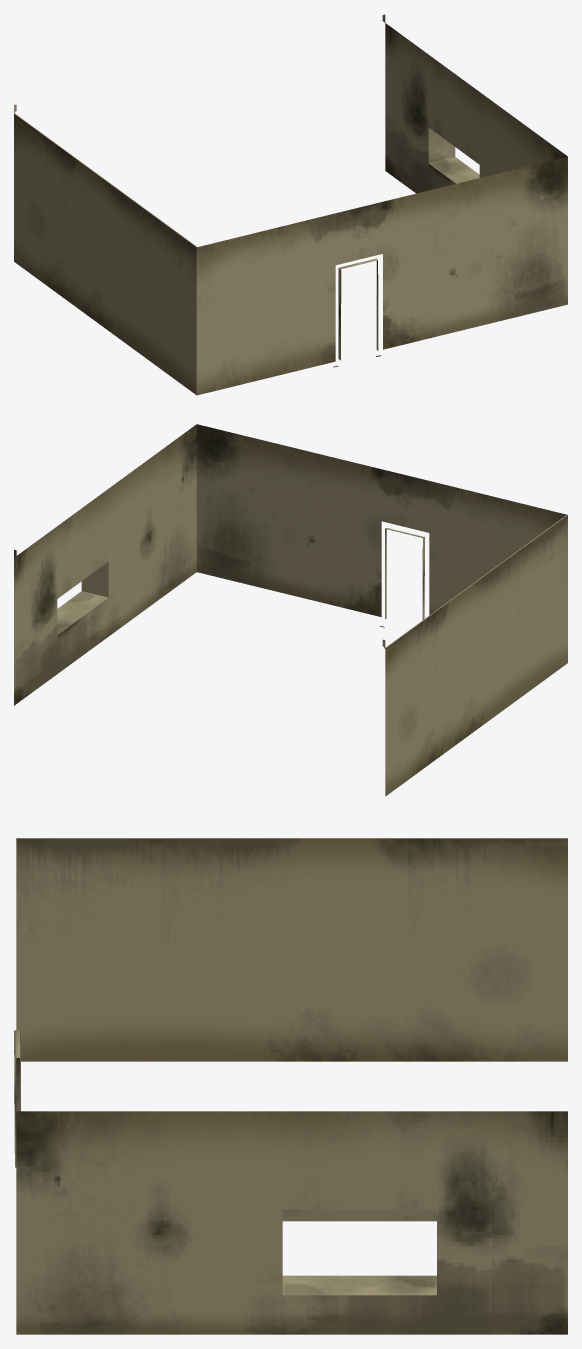
The model's file is Walls_Main_Adjusted_01.fbx.
3 views of the same model, one above another, from view 1: azimuth 30°, elevation 25°; view 2: azimuth 150°, elevation 25°; view 3: azimuth 270°, elevation 25° (orthographic). The views are drawn at different scales.
Visible parts, largest first — view 1: Walls_Main_01; view 2: Walls_Main_01; view 3: Walls_Main_01.
Boxes of the visible parts, x1,y1,x2,y2 form: Walls_Main_01: [14, 14, 567, 395]; Walls_Main_01: [14, 424, 567, 796]; Walls_Main_01: [14, 838, 567, 1334].
Size of the model in its own units: 102 by 40.17 by 81.63.
